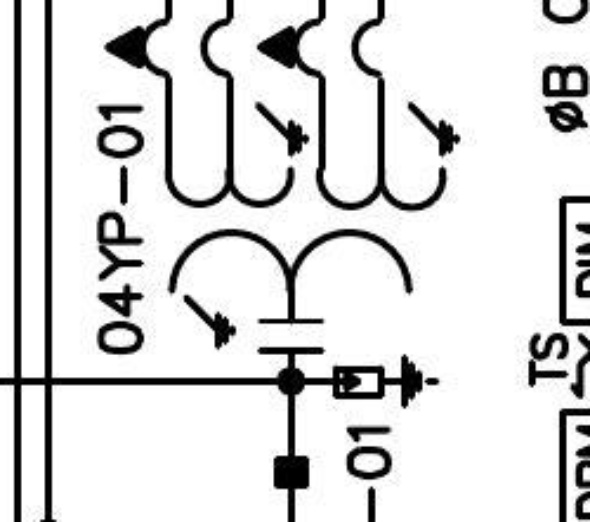115_cvt_1p: (103, 12, 464, 356)
115_la: (332, 353, 441, 410)
